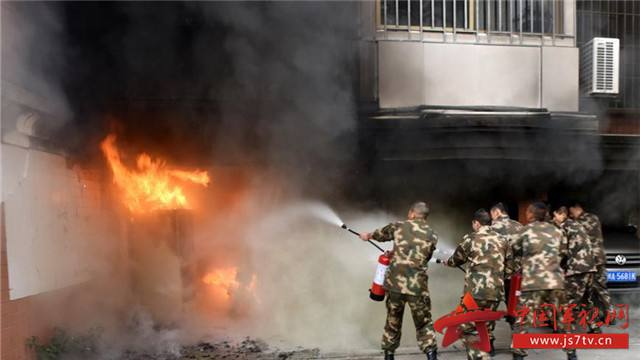fire: (101, 124, 231, 229), (201, 259, 279, 318)
